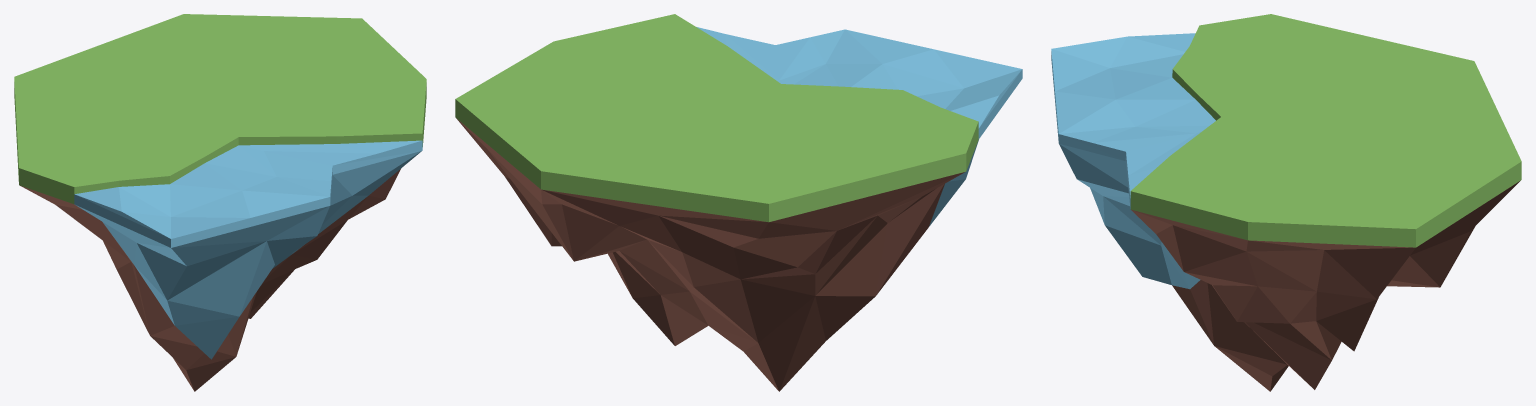
File: Island11.fbx
3 renders of one model, left to right at view 1: azimuth 30°, elevation 25°; view 2: azimuth 150°, elevation 25°; view 3: azimuth 270°, elevation 25°, orthographic. The views are drawn at different scales.
Parts seen in each view (by area): view 1: Island11; view 2: Island11; view 3: Island11.
Boxes of the visible parts, x1,y1,x2,y2 form: Island11: [14, 14, 426, 391]; Island11: [455, 14, 1022, 391]; Island11: [1051, 14, 1521, 391].
Bounding box in the file's own units: 4.98 × 3.09 × 4.6.
